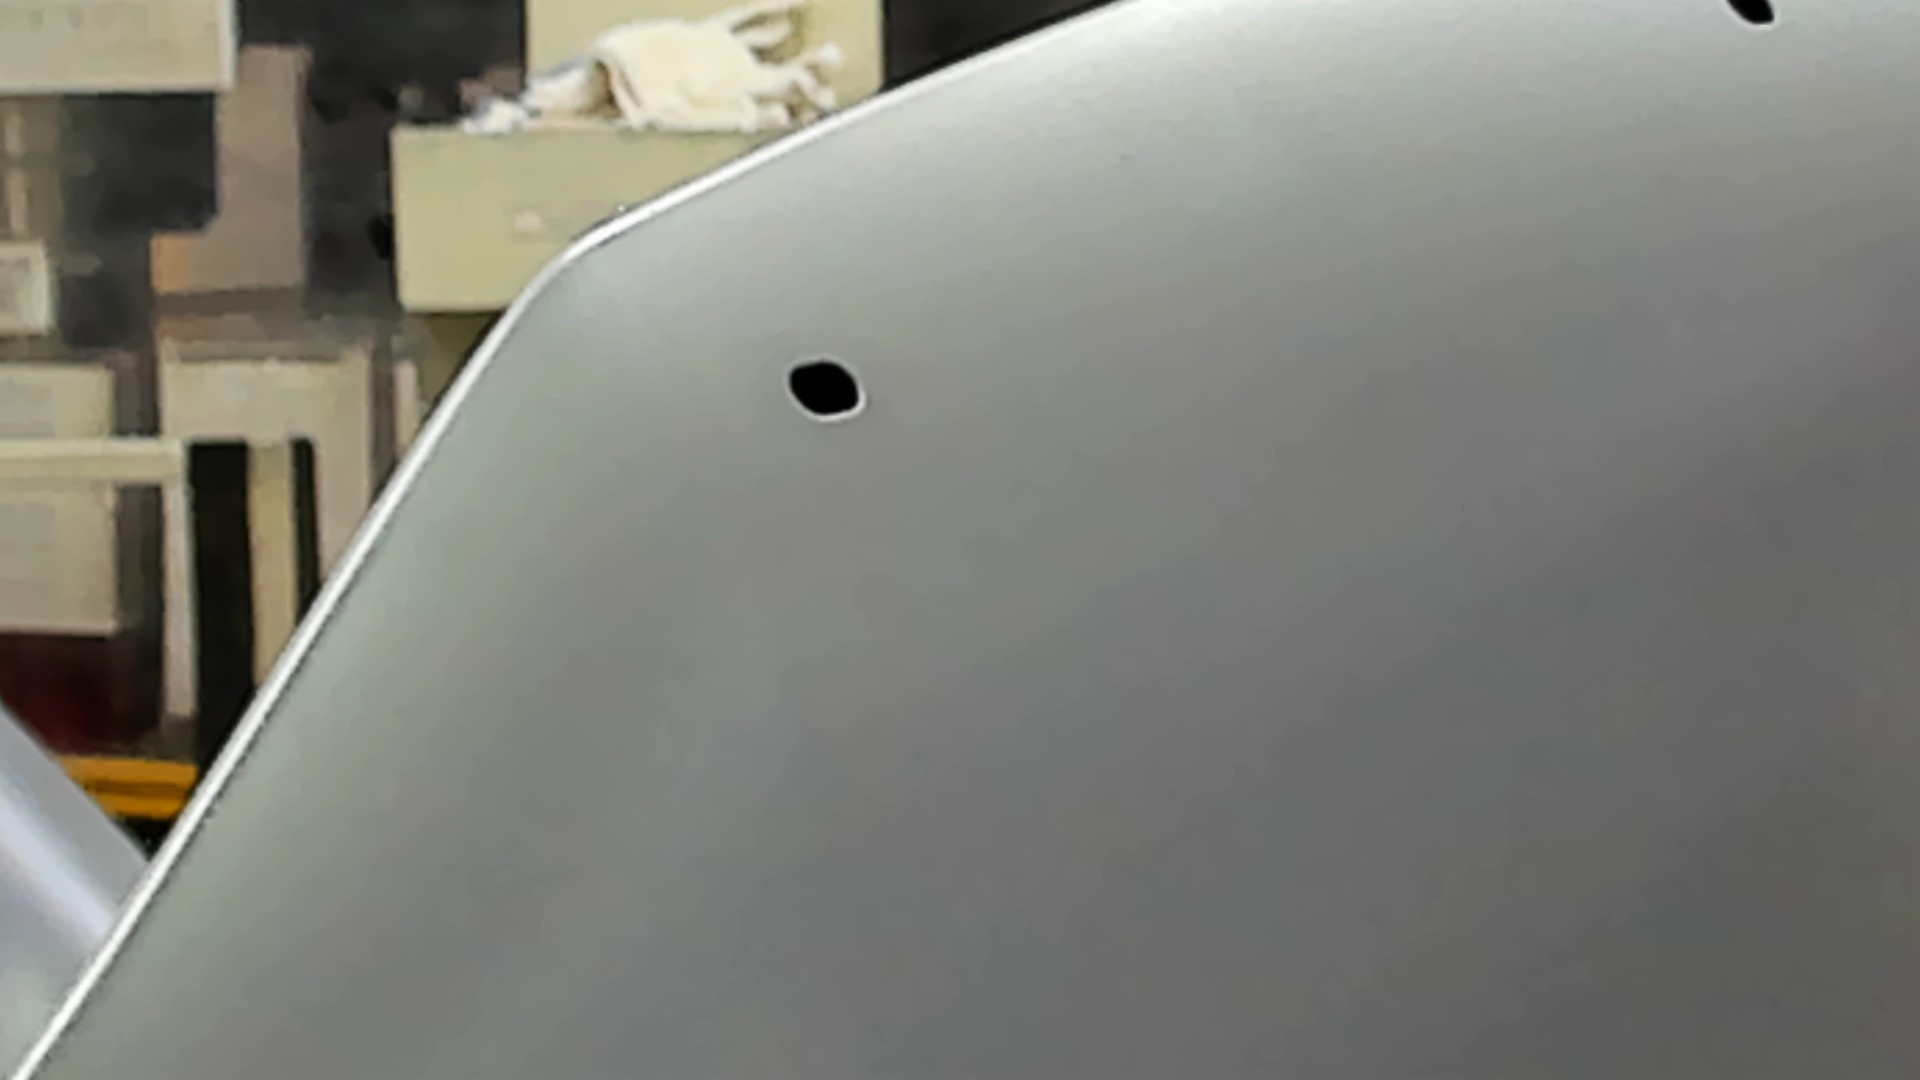amorfo: (779, 355, 869, 427), (1724, 1, 1784, 29)
